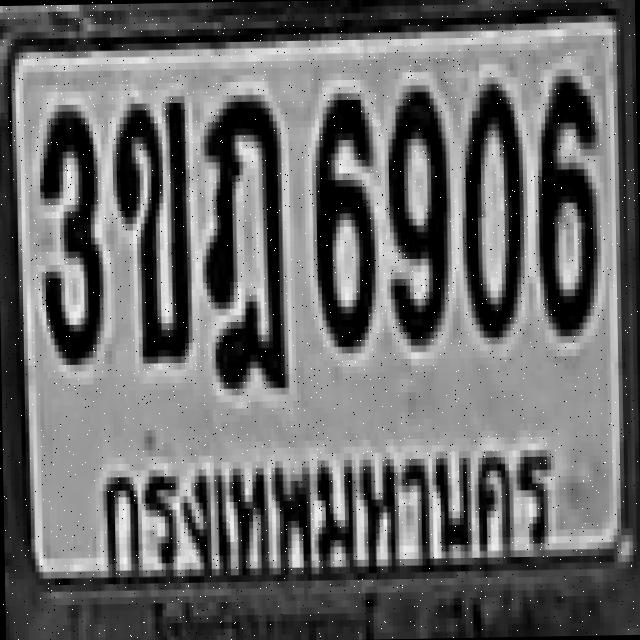0: (459, 77, 522, 330)
11KhorKhai: (111, 89, 189, 357)
23DorChaDa: (199, 88, 285, 382)
3: (34, 98, 100, 358)
6: (532, 68, 594, 330), (310, 86, 372, 347)
9: (383, 78, 445, 339)
Bangkok: (92, 436, 562, 592)
